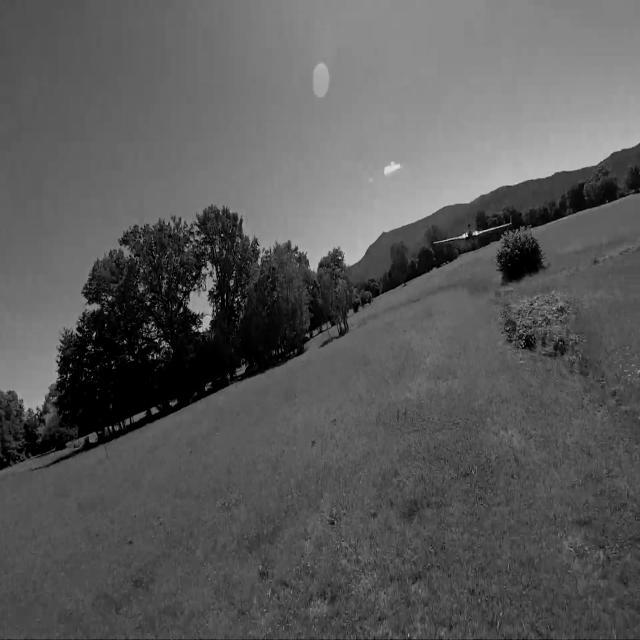iha: (465, 210, 478, 262)
